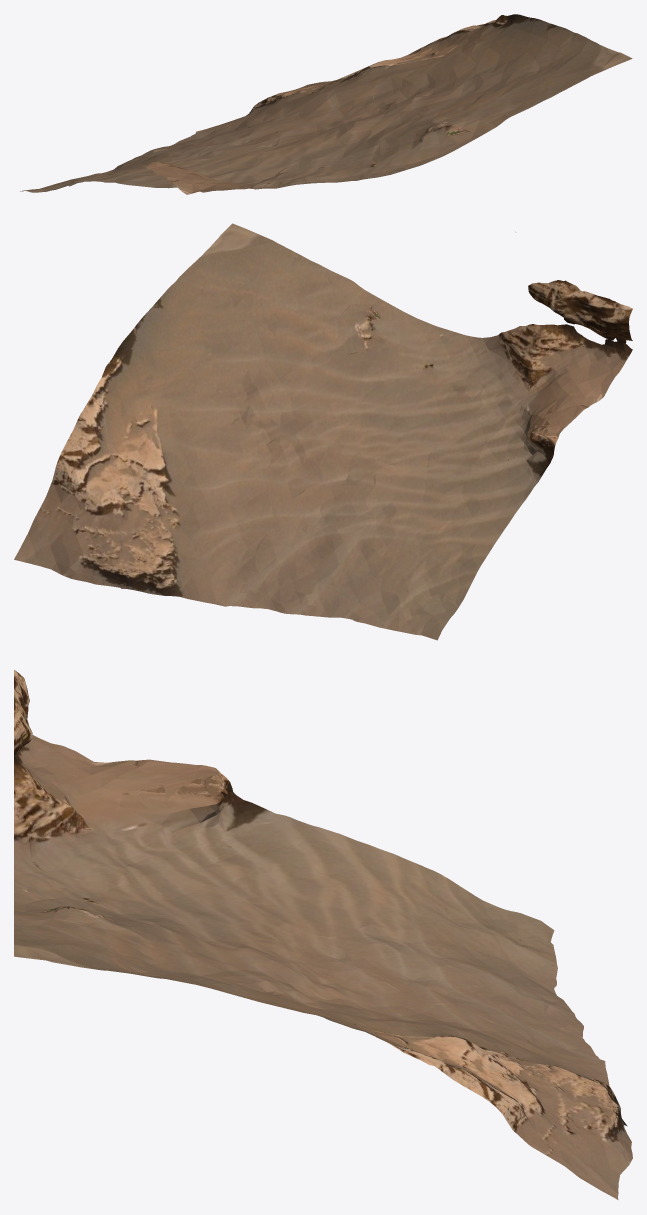
3 renders of one model, top to bottom at view 1: azimuth 30°, elevation 25°; view 2: azimuth 150°, elevation 25°; view 3: azimuth 270°, elevation 25°, orthographic. The views are drawn at different scales.
Size of the model in its own units: 1.04 by 0.5919 by 1.01.
Materials: 2 (2 with a texture image).
